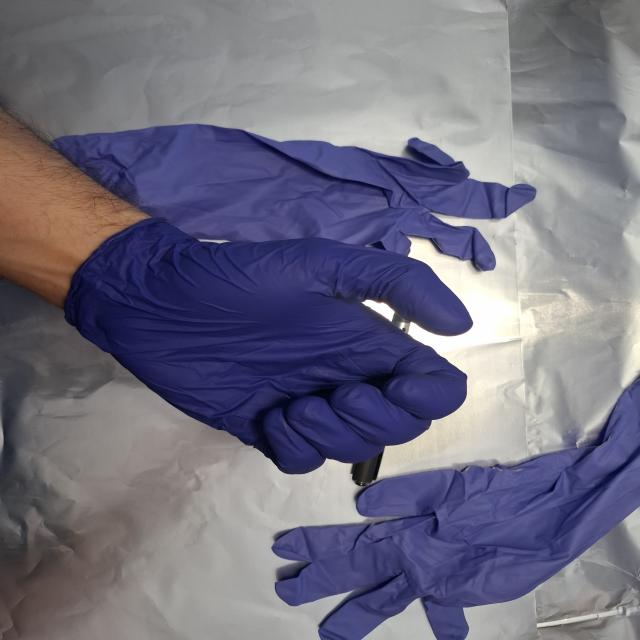glove_on: (62, 213, 478, 479)
